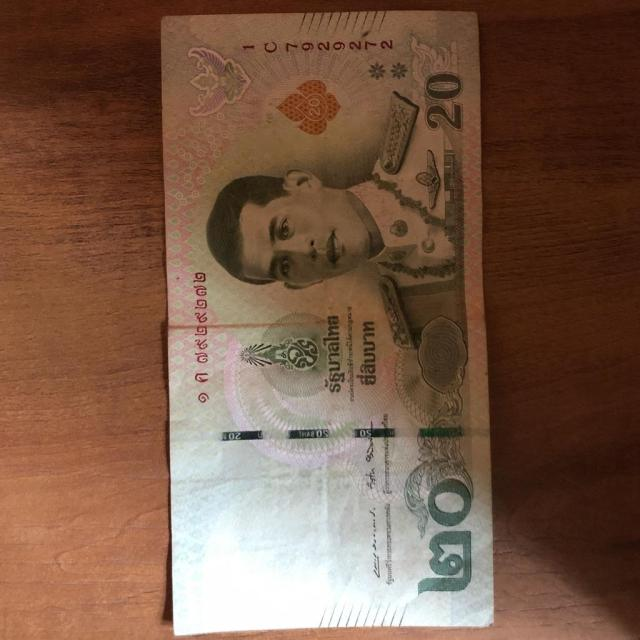THAI20: (162, 12, 493, 635)
